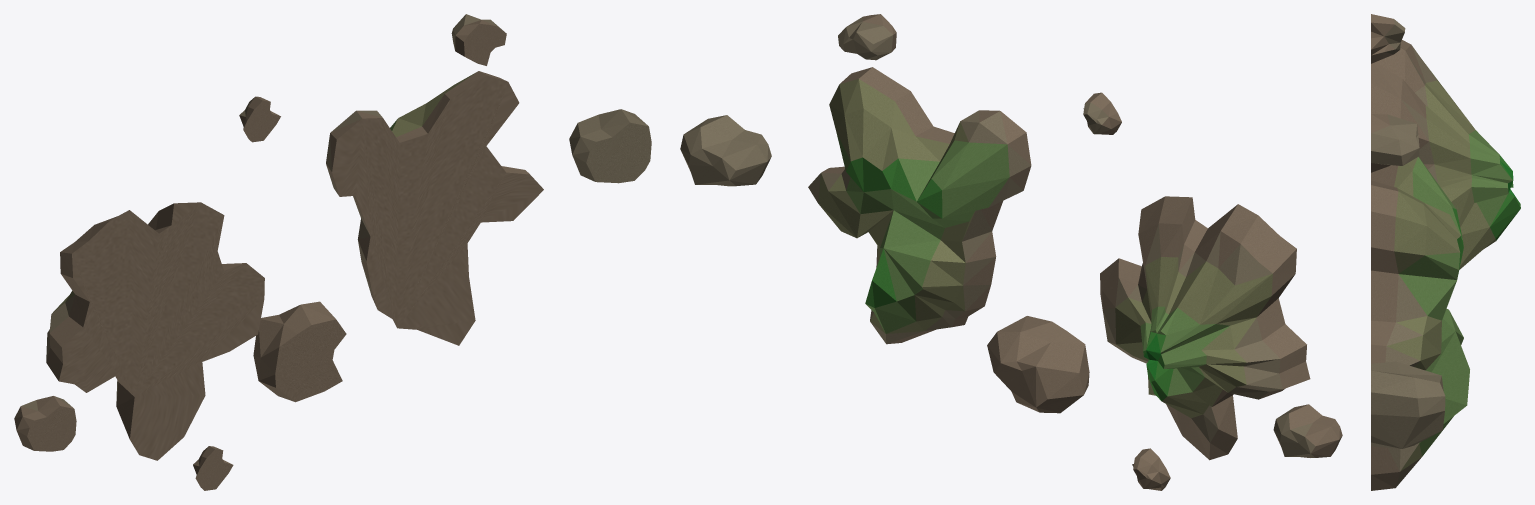
The model's file is dokdo.FBX.
3 renders of one model, left to right at view 1: azimuth 30°, elevation 25°; view 2: azimuth 150°, elevation 25°; view 3: azimuth 270°, elevation 25°, orthographic. The views are drawn at different scales.
Visible parts, largest first — view 1: Circle.002; view 2: Circle.002; view 3: Circle.002.
Boxes of the visible parts, box(x1,y1,x2,y2) form: Circle.002: box(14, 14, 651, 490); Circle.002: box(680, 14, 1342, 490); Circle.002: box(1371, 14, 1520, 490).
Size of the model in its own units: 5710 by 3461 by 955.
